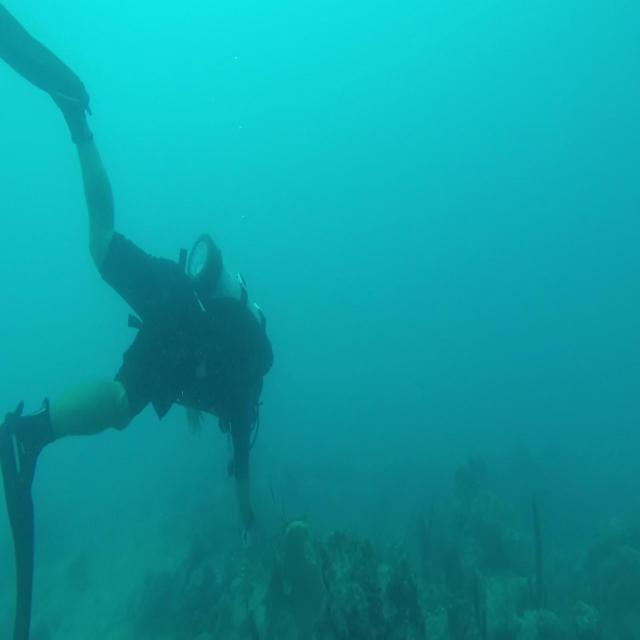human: (0, 3, 274, 638)
